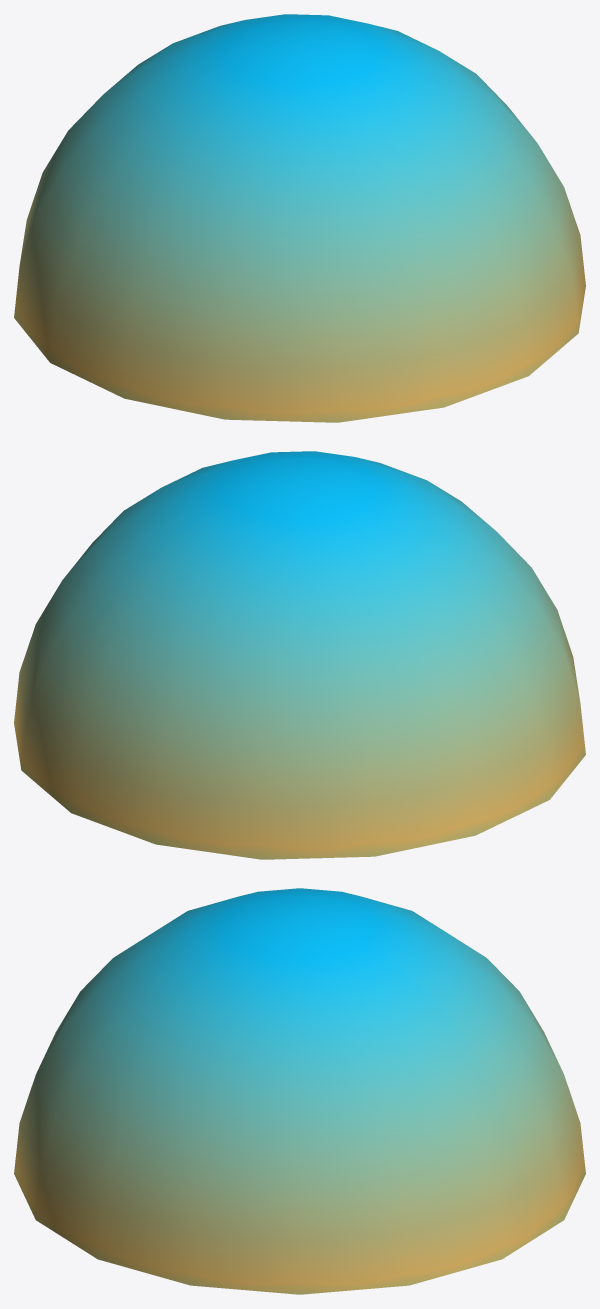
Rendered from BrightSkySphere.fbx.
3 views of the same model, one above another, from view 1: azimuth 30°, elevation 25°; view 2: azimuth 150°, elevation 25°; view 3: azimuth 270°, elevation 25° (orthographic).
Parts seen in each view (by area): view 1: Cube; view 2: Cube; view 3: Cube.
Boxes of the visible parts, <box> form: Cube: <box>14,14,585,422</box>; Cube: <box>14,451,585,859</box>; Cube: <box>14,888,585,1294</box>.
Bounding box in the file's own units: 345 × 173 × 345.
Materials: 1 (1 with a texture image).
